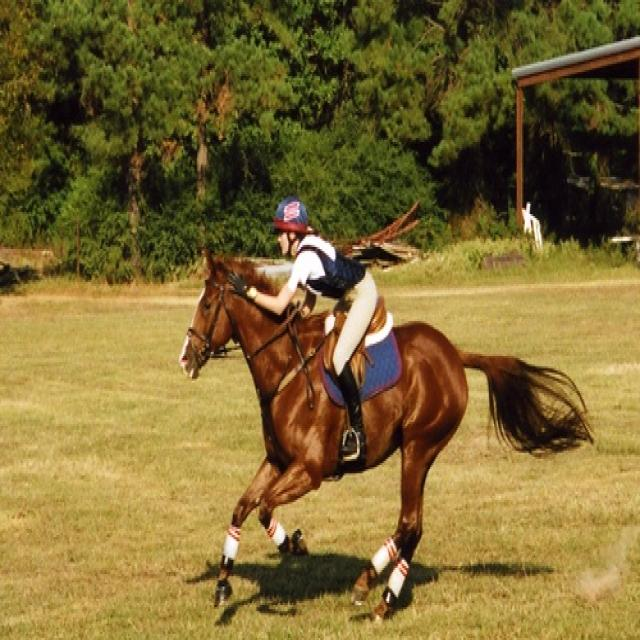horse: (176, 239, 578, 617)
